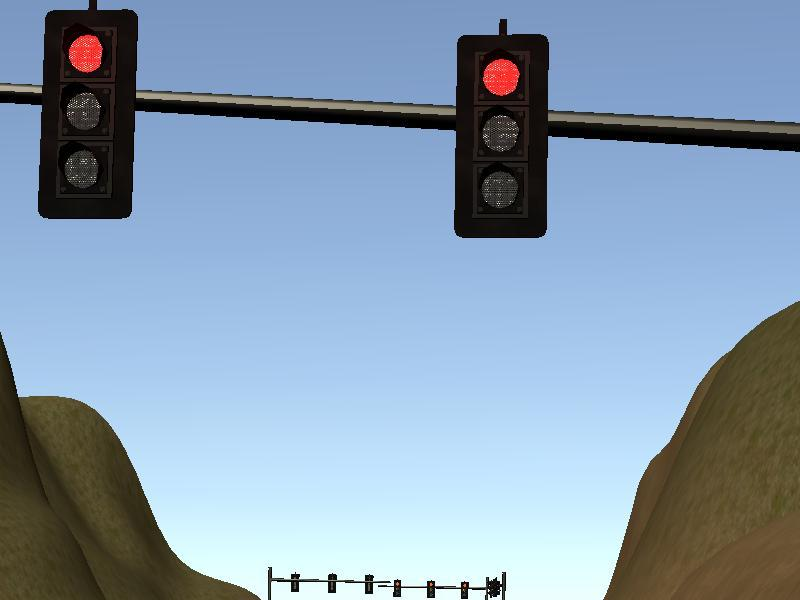Red: (42, 8, 134, 220), (458, 34, 547, 240), (426, 580, 435, 600), (393, 579, 401, 597), (461, 581, 469, 599)
